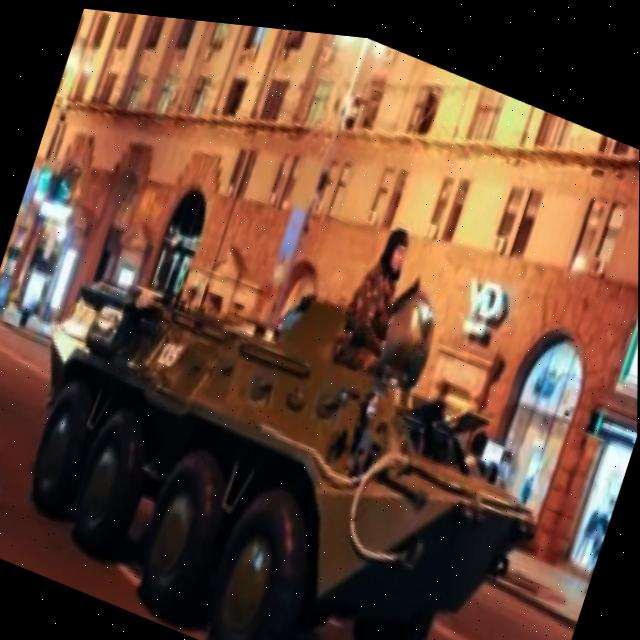MIL_APC: (0, 202, 579, 640)
